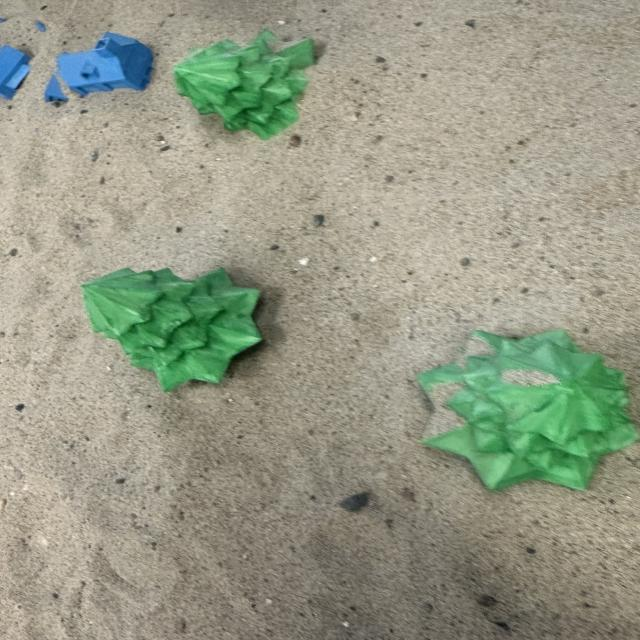house: (52, 30, 154, 99), (0, 44, 32, 100)
tree: (416, 327, 638, 493), (78, 265, 264, 393), (171, 28, 317, 140)
